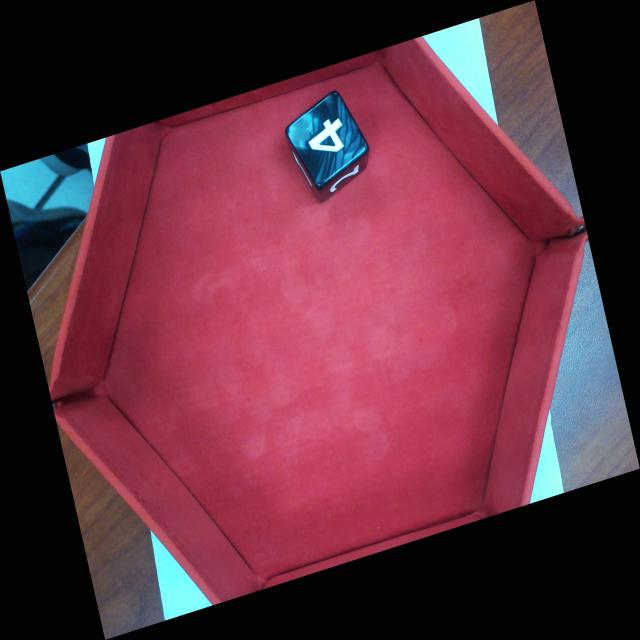dice: (283, 91, 371, 190)
